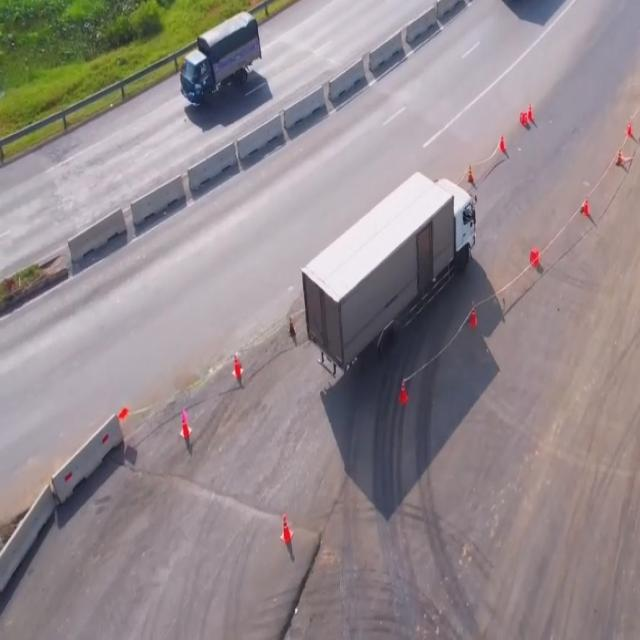truck: (301, 175, 475, 390), (180, 12, 262, 104)
